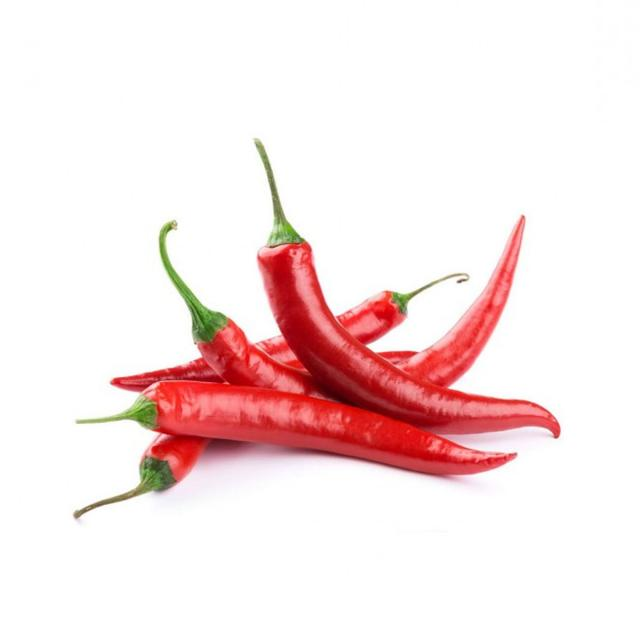red chili: (256, 140, 561, 437), (77, 382, 515, 475)
